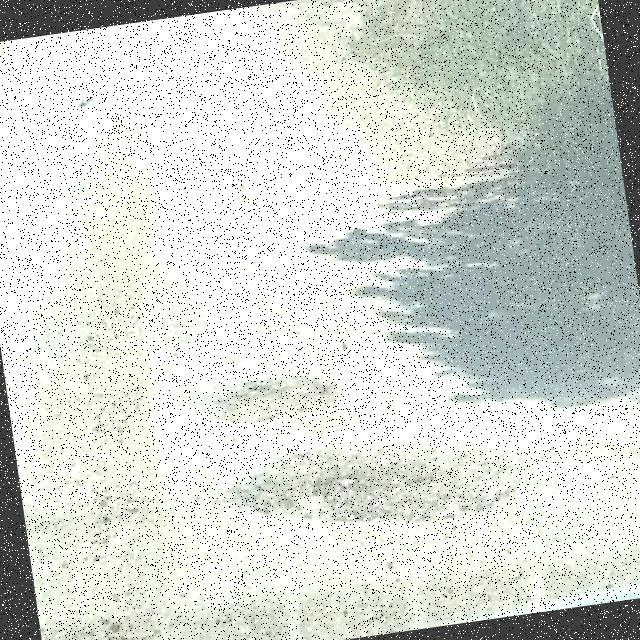Pothole: (232, 449, 515, 525), (189, 373, 340, 428)
